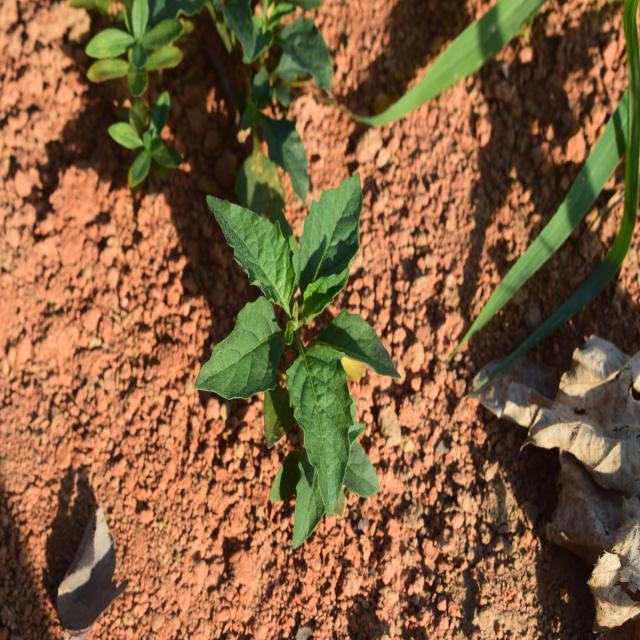Black_nightshade: (183, 173, 394, 522)
